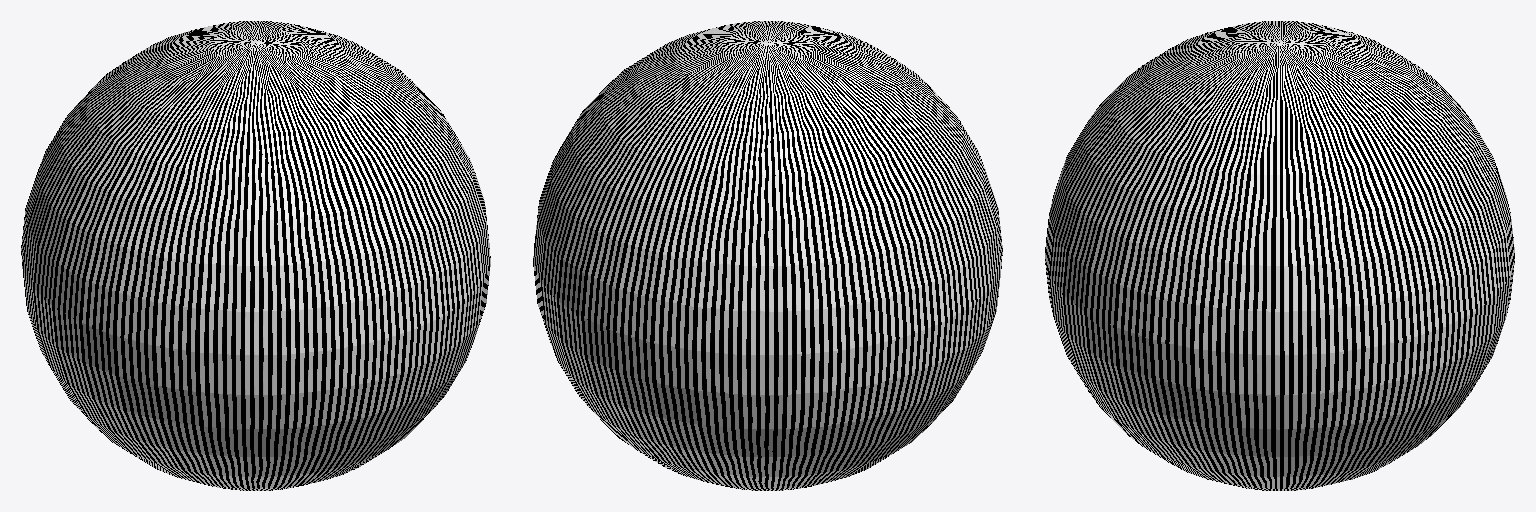
3 views of the same model, side by side, from view 1: azimuth 30°, elevation 25°; view 2: azimuth 150°, elevation 25°; view 3: azimuth 270°, elevation 25° (orthographic).
Parts seen in each view (by area): view 1: Sphere; view 2: Sphere; view 3: Sphere.
Boxes of the visible parts, box(x1,y1,x2,y2) form: Sphere: box(21, 21, 490, 490); Sphere: box(533, 21, 1002, 490); Sphere: box(1045, 21, 1514, 490).
Bounding box in the file's own units: 2.2 × 2.2 × 2.2.
Materials: 1 (1 with a texture image).